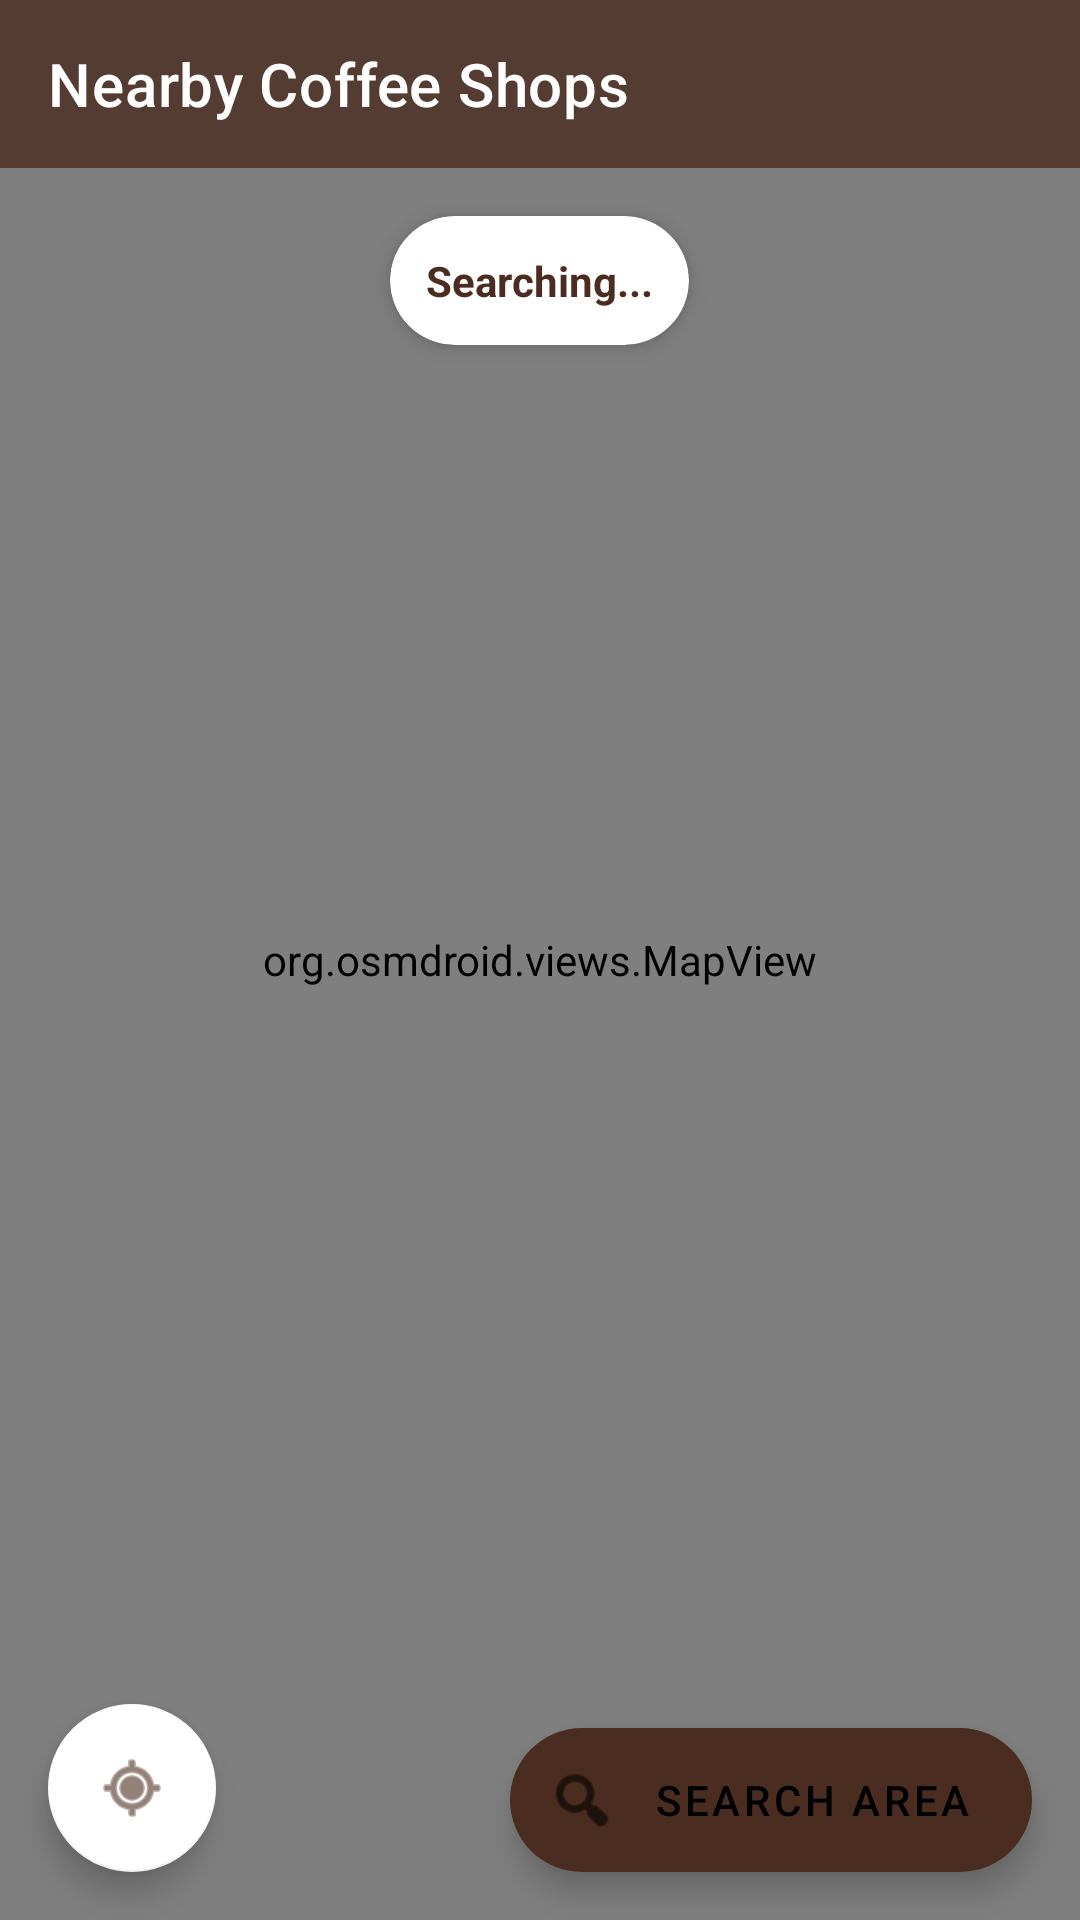

Icon bounding boxes for this 1080 × 1920 phone screenshot, format (x1, y1, x2, y2):
My Location: (48, 1704, 216, 1872)
